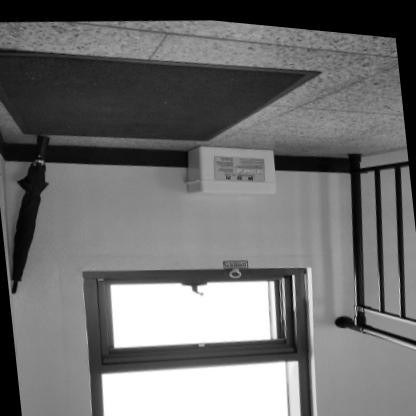DDL: (183, 132, 274, 196)
